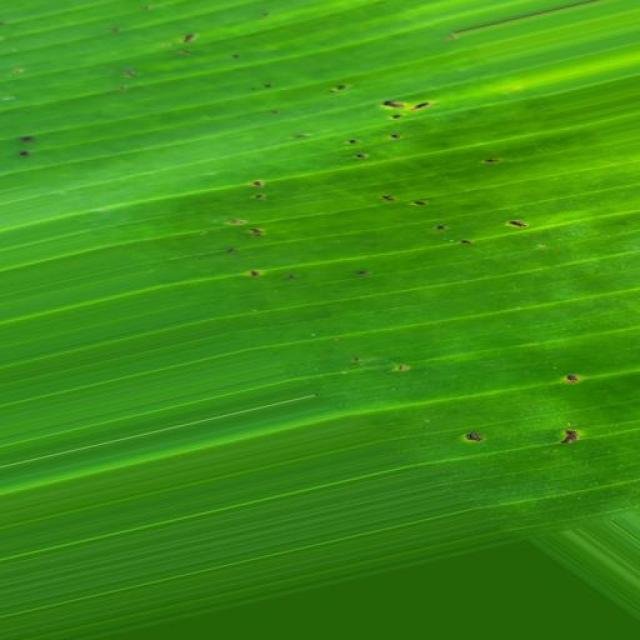Black_rot: (311, 69, 583, 294), (211, 148, 283, 296), (150, 12, 272, 80), (542, 361, 605, 453), (6, 111, 59, 187), (439, 416, 505, 464)
